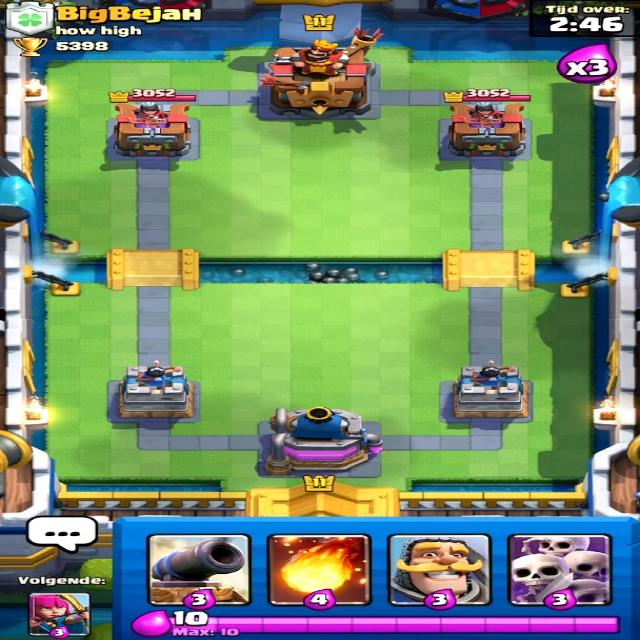Cannon_Card: (154, 538, 247, 604)
Fireball_Card: (265, 533, 369, 608)
